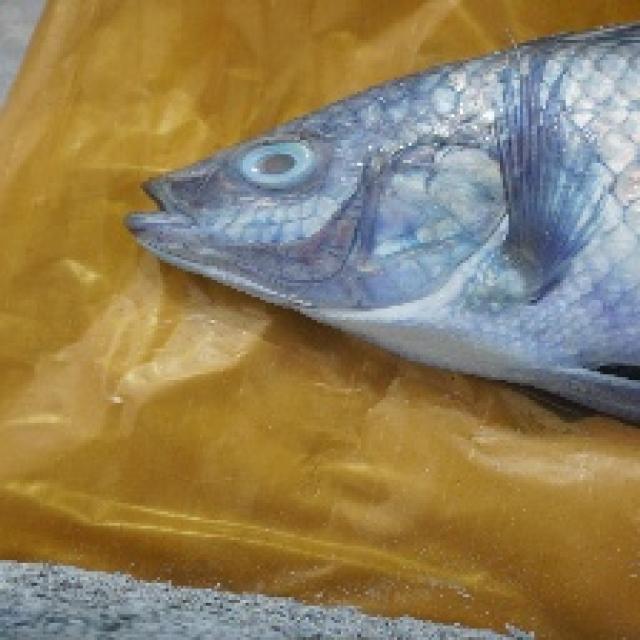Non-Fresh: (233, 131, 331, 201)
